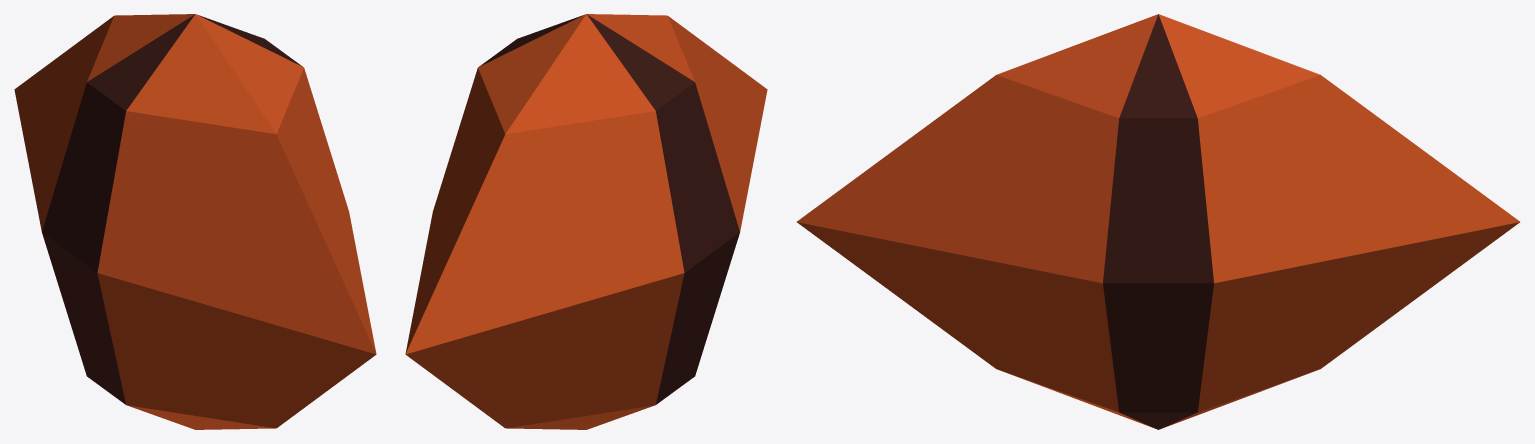
The model's file is Eye.fbx.
The picture shows the model from 3 angles, left to right: view 1: azimuth 30°, elevation 25°; view 2: azimuth 150°, elevation 25°; view 3: azimuth 270°, elevation 25°; orthographic projection.
Visible parts, largest first — view 1: Sphere; view 2: Sphere; view 3: Sphere.
Boxes of the visible parts, x1,y1,x2,y2 form: Sphere: (14, 14, 376, 429); Sphere: (405, 14, 767, 429); Sphere: (797, 14, 1519, 429).
Bounding box in the file's own units: 127 × 200 × 316.
